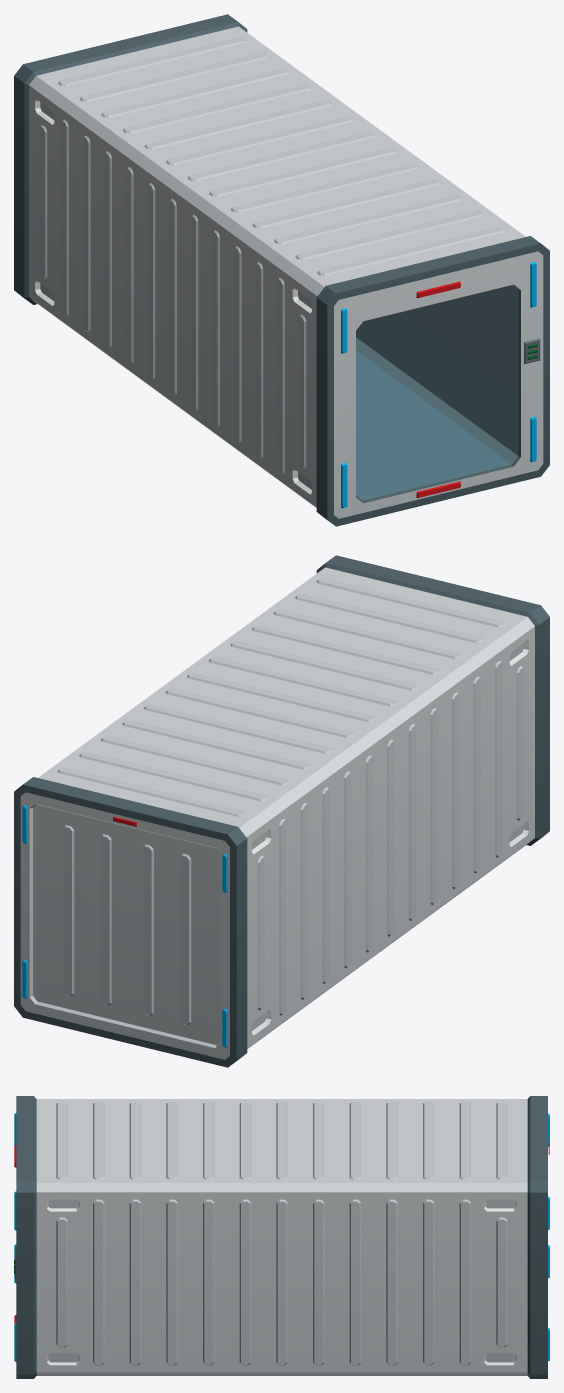
The model's file is Container_type_A_001.fbx.
3 views of the same model, one above another, from view 1: azimuth 30°, elevation 25°; view 2: azimuth 150°, elevation 25°; view 3: azimuth 270°, elevation 25° (orthographic). The views are drawn at different scales.
Visible parts, largest first — view 1: Container_type_A_001; view 2: Container_type_A_001; view 3: Container_type_A_001.
Boxes of the visible parts, x1=… form: Container_type_A_001: x1=14, y1=14, x2=549, y2=526; Container_type_A_001: x1=14, y1=555, x2=549, y2=1067; Container_type_A_001: x1=14, y1=1096, x2=549, y2=1378.
Size of the model in its own units: 246 by 605 by 246.
